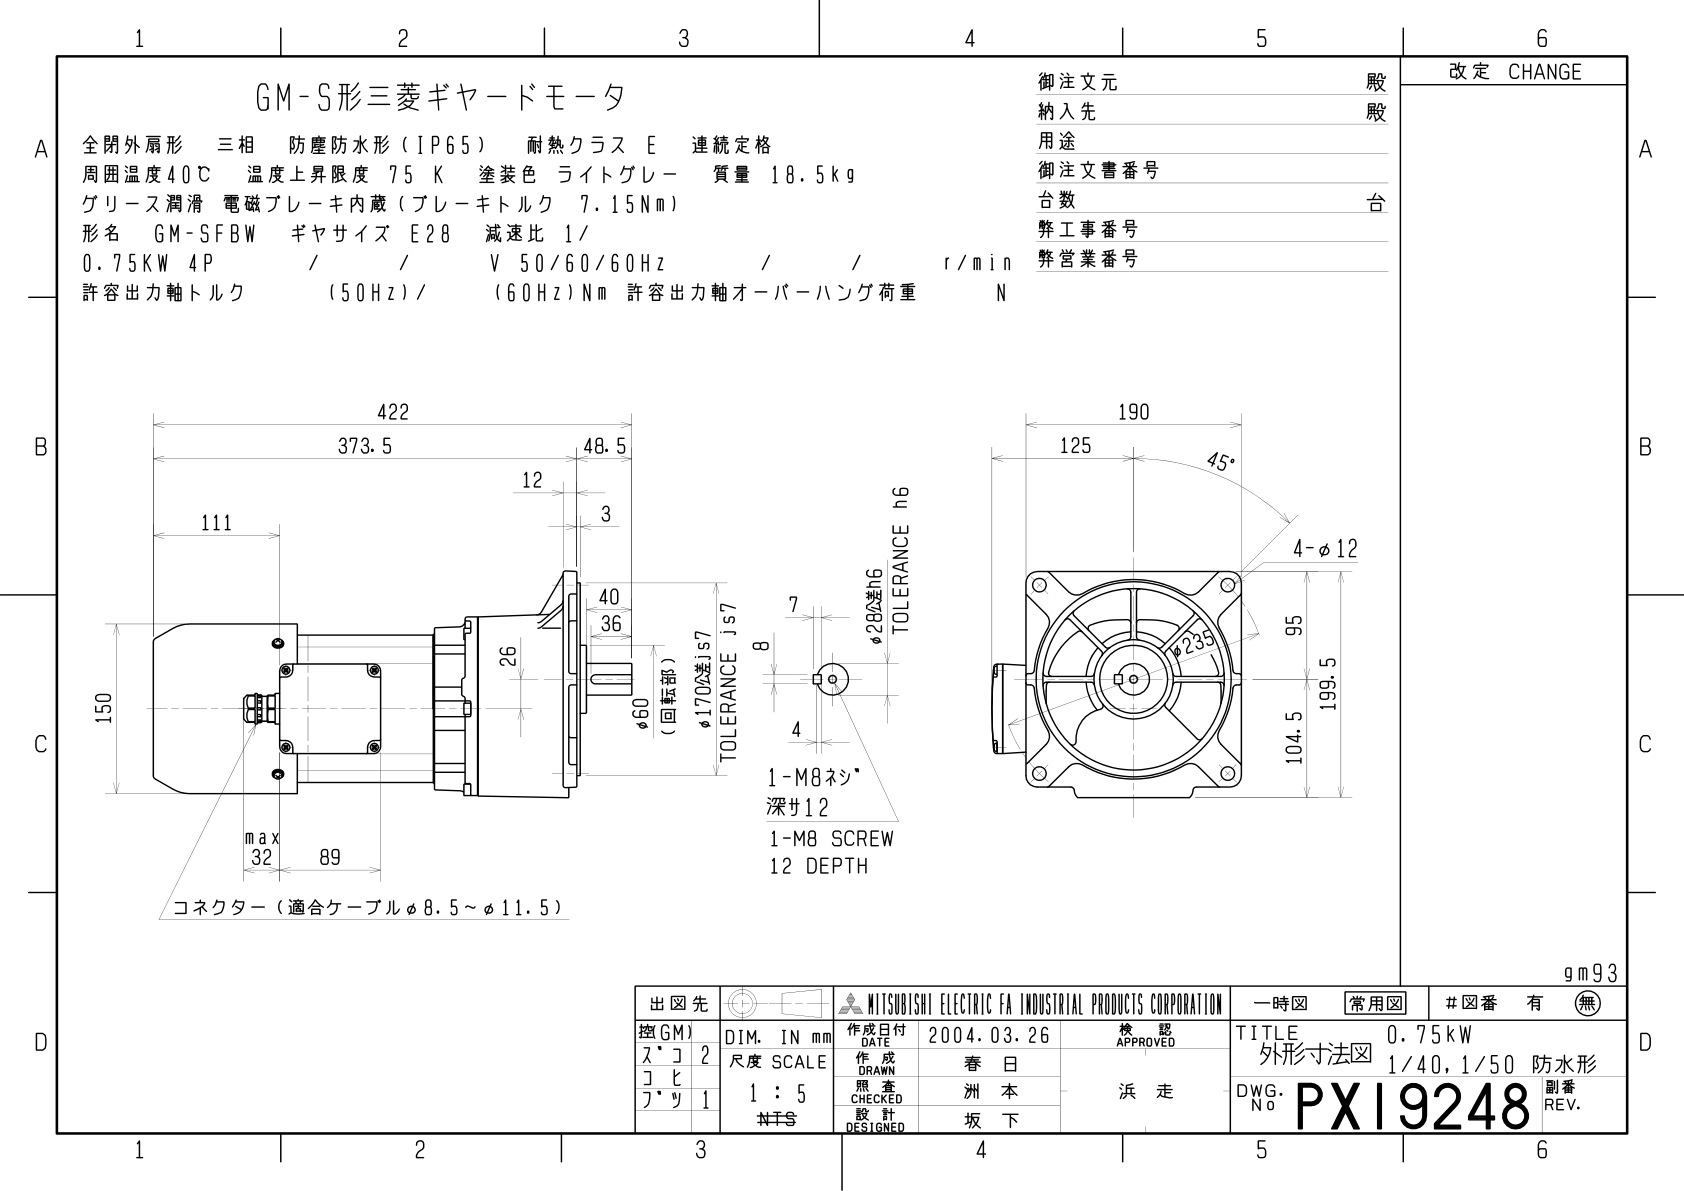GM_S_IP65＿三相_フランジ: (77, 342, 1389, 980)
